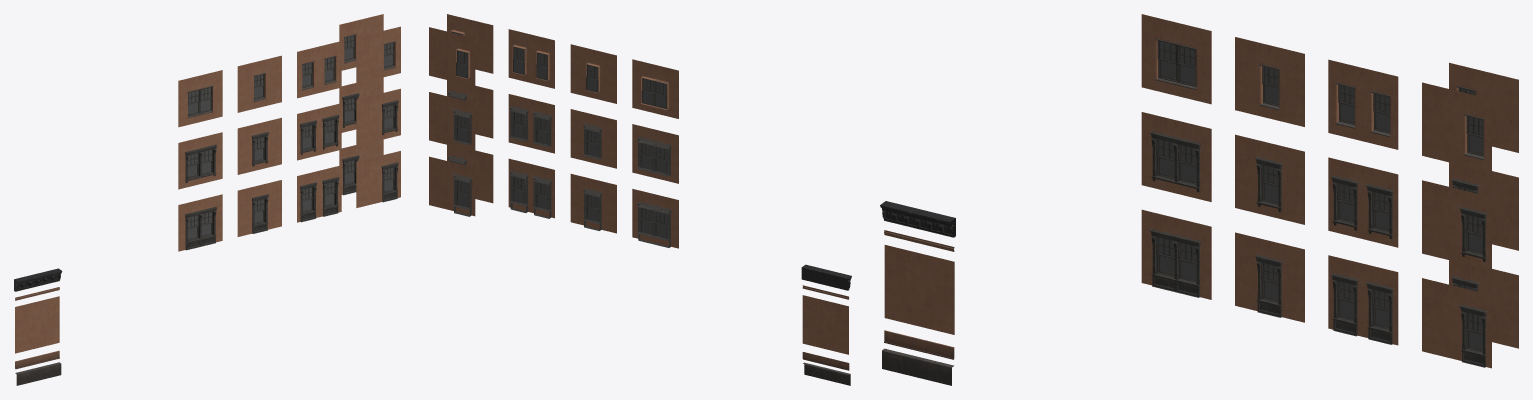
Rendered from modular_urban_apartments_facade.gltf.
The picture shows the model from 3 angles, left to right: view 1: azimuth 30°, elevation 25°; view 2: azimuth 150°, elevation 25°; view 3: azimuth 330°, elevation 25°; orthographic projection. The views are drawn at different scales.
Visible parts, largest first — view 1: wall_standard_standard_01, wall_window_offset_small_05, wall_window_centered_small_03, wall_window_centered_small_02, wall_window_offset_small_03, wall_window_centered_double_03, wall_window_centered_small_01, wall_window_offset_small_01, wall_window_centered_large_03, wall_window_centered_large_02, wall_window_centered_double_02, window_centered_double_01 (+19 smaller); view 2: wall_standard_standard_01, wall_window_offset_small_06, wall_window_centered_small_03, wall_window_centered_small_02, wall_window_offset_small_04, wall_window_centered_small_01, wall_window_offset_small_02, wall_window_centered_double_03, wall_window_centered_large_03, wall_window_offset_small_05, window_centered_double_01, wall_window_offset_small_03 (+17 smaller); view 3: wall_standard_standard_01, wall_window_offset_small_05, wall_window_centered_small_03, wall_window_centered_small_02, wall_window_offset_small_03, wall_window_centered_double_03, wall_window_centered_small_01, wall_window_offset_small_01, wall_window_centered_large_03, wall_window_offset_small_06, wall_window_centered_double_02, wall_window_centered_large_02 (+19 smaller).
Part boxes in pixels (box(x1,y1,x2,y2)): wall_standard_standard_01: box(15, 296, 59, 353); wall_window_offset_small_05: box(356, 26, 400, 83); wall_window_centered_small_03: box(237, 55, 281, 112); wall_window_centered_small_02: box(237, 117, 281, 174); wall_window_offset_small_03: box(356, 88, 400, 145); wall_window_centered_double_03: box(297, 41, 341, 98); wall_window_centered_small_01: box(237, 180, 281, 236); wall_window_offset_small_01: box(356, 151, 400, 207); wall_window_centered_large_03: box(178, 70, 222, 127); wall_window_centered_large_02: box(178, 132, 222, 189); wall_window_centered_double_02: box(297, 103, 341, 160); window_centered_double_01: box(300, 177, 339, 222); wall_standard_standard_01: box(802, 295, 848, 354); wall_window_offset_small_06: box(429, 27, 475, 86); wall_window_centered_small_03: box(570, 44, 616, 103); wall_window_centered_small_02: box(570, 109, 616, 168); wall_window_offset_small_04: box(429, 92, 475, 151); wall_window_centered_small_01: box(570, 174, 616, 233); wall_window_offset_small_02: box(429, 156, 475, 216); wall_window_centered_double_03: box(508, 29, 554, 88); wall_window_centered_large_03: box(632, 59, 678, 118); wall_window_offset_small_05: box(447, 14, 493, 73); window_centered_double_01: box(509, 170, 551, 218); wall_window_offset_small_03: box(447, 80, 493, 138); wall_standard_standard_01: box(884, 245, 954, 334); wall_window_offset_small_05: box(1422, 82, 1491, 172); wall_window_centered_small_03: box(1235, 37, 1304, 126); wall_window_centered_small_02: box(1235, 134, 1304, 224); wall_window_offset_small_03: box(1422, 180, 1491, 270); wall_window_centered_double_03: box(1328, 59, 1398, 149); wall_window_centered_small_01: box(1235, 232, 1304, 322); wall_window_offset_small_01: box(1422, 278, 1491, 368); wall_window_centered_large_03: box(1141, 14, 1211, 104); wall_window_offset_small_06: box(1449, 62, 1518, 152); wall_window_centered_double_02: box(1328, 157, 1398, 247); wall_window_centered_large_02: box(1141, 112, 1211, 201).
Bounding box in the file's own units: 26 × 17 × 2.57.
5 materials, 5 textured.
